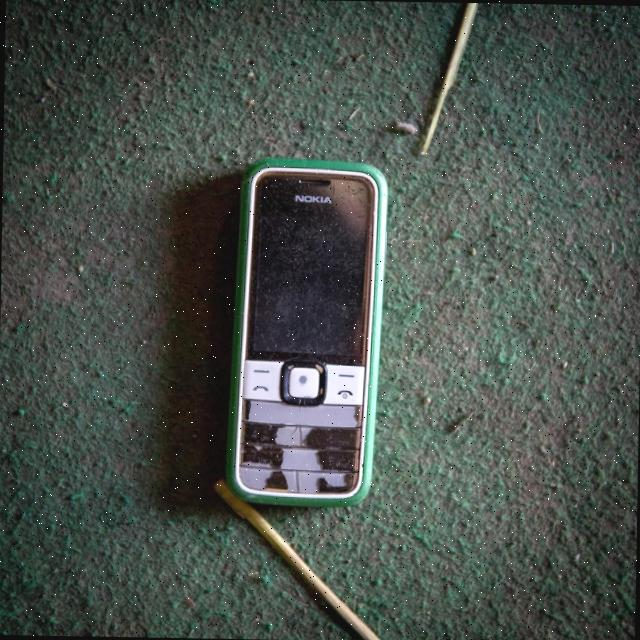Phone: (222, 156, 389, 508)
